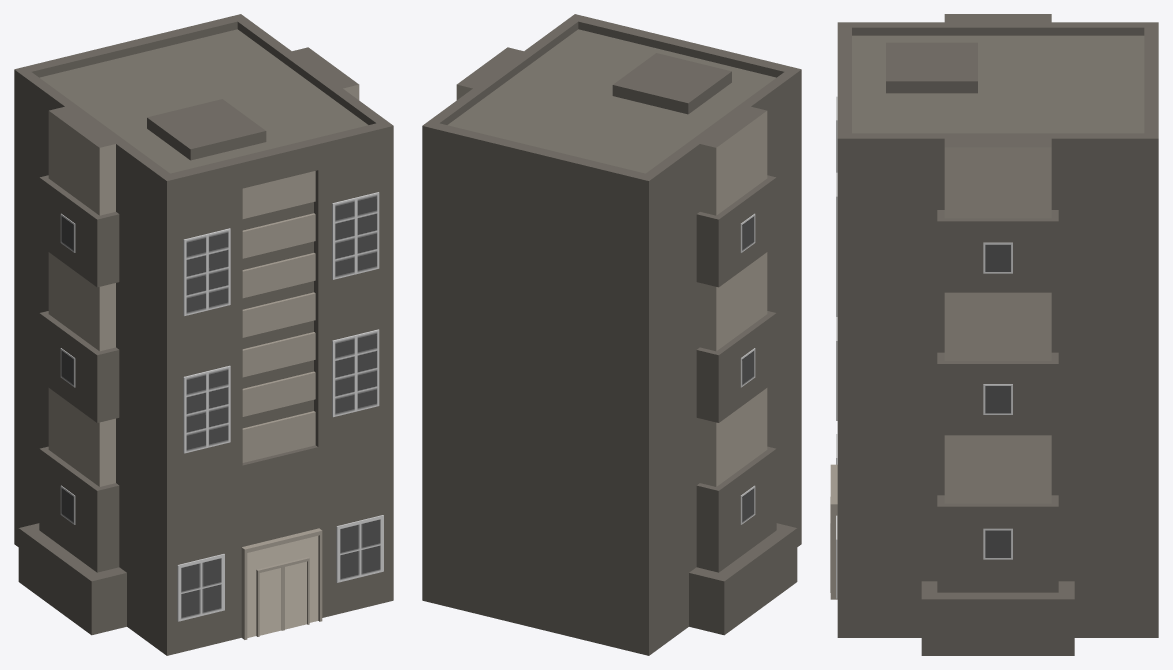
Rendered from building06_color01.fbx.
The picture shows the model from 3 angles, left to right: view 1: azimuth 30°, elevation 25°; view 2: azimuth 150°, elevation 25°; view 3: azimuth 270°, elevation 25°; orthographic projection. The views are drawn at different scales.
Parts seen in each view (by area): view 1: building06_color01; view 2: building06_color01; view 3: building06_color01.
Part boxes in pixels (x1=…): building06_color01: x1=14, y1=14, x2=393, y2=655; building06_color01: x1=422, y1=14, x2=801, y2=655; building06_color01: x1=830, y1=14, x2=1158, y2=655.
Bounding box in the file's own units: 949 × 1457 × 863.
